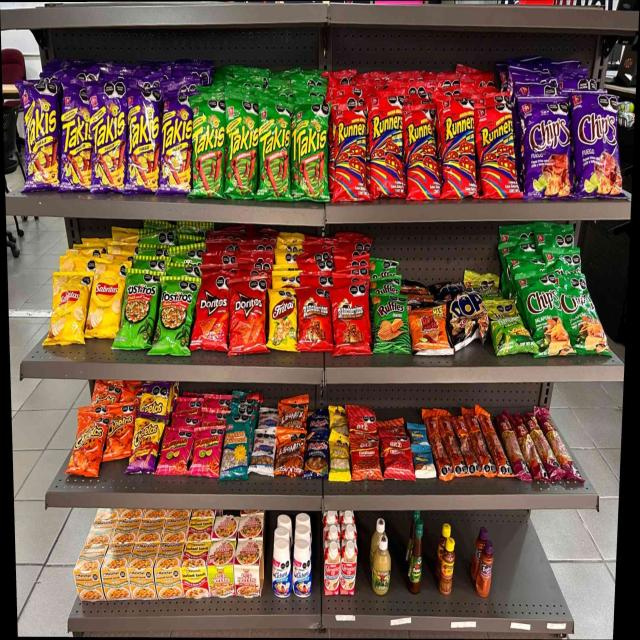bitzAlmendras: (412, 443, 431, 477)
bitzEnchilado90: (352, 430, 379, 480), (382, 432, 408, 479)
bitzEnchilado95: (435, 407, 498, 478)
bitzHabanero: (503, 410, 576, 482)
bokadosCacahuates: (306, 436, 328, 479)
botaneraChilito: (440, 534, 454, 596)
cheetosFlaminHot: (136, 416, 158, 474), (141, 384, 169, 416)
cheetosOriginal: (77, 411, 102, 479), (106, 406, 133, 458)
chipsFuego: (521, 100, 570, 198), (574, 94, 616, 197)
chipsJalapeno: (562, 275, 604, 357), (526, 278, 560, 356)
chipsPapatinas: (487, 297, 522, 357)
churrumais: (194, 426, 220, 477), (161, 427, 188, 473)
delPrimoSalsa: (372, 535, 390, 595)
doritosNacho: (230, 276, 264, 350), (197, 278, 227, 350)
fritosLimon: (269, 286, 295, 352)
hotNutsOriginal: (410, 304, 446, 358)
leoCacahuates: (253, 427, 274, 476)
leoMix: (277, 433, 303, 476), (278, 398, 306, 429)
maruchanPollo: (103, 544, 128, 598), (78, 543, 100, 602), (130, 544, 154, 598), (156, 545, 180, 599)
maruchanRes: (182, 544, 208, 598)
nestleCarnation: (341, 536, 357, 596), (324, 538, 339, 595)
nestleLechera: (272, 538, 292, 597), (294, 538, 311, 599)
nissinCamaron: (210, 542, 234, 596)
nissinRes: (237, 538, 260, 598)
popKarameladas: (449, 286, 484, 341)
rancheritos: (334, 286, 369, 356), (297, 285, 330, 351)
rufflesQueso: (372, 294, 407, 355)
runners: (477, 96, 512, 200), (368, 98, 404, 199), (332, 101, 366, 202), (440, 98, 474, 196), (406, 106, 437, 202)
sabritasOriginal: (53, 273, 83, 343), (90, 272, 118, 336)
salsaBufalo: (409, 525, 423, 593)
semillasCalabaza: (330, 430, 349, 482)
semillasGirasol: (224, 417, 247, 478)
tajinDulce: (475, 541, 492, 600)
takisFuego: (91, 83, 125, 191), (26, 80, 57, 188), (128, 86, 159, 193), (62, 79, 90, 190), (162, 97, 190, 195)
takisOriginal: (259, 102, 292, 200), (294, 108, 328, 202), (227, 98, 257, 202), (193, 99, 224, 197)
tostitos: (123, 268, 156, 350), (158, 276, 190, 354)
